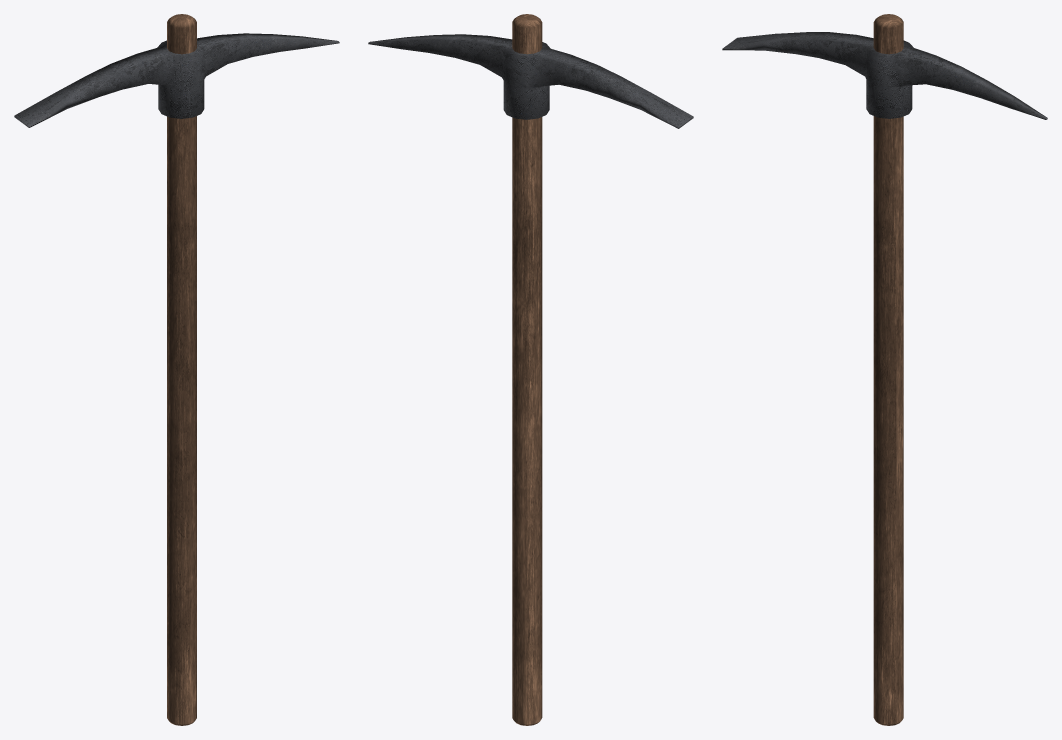
Rendered from WoodPickaxe.fbx.
3 views of the same model, side by side, from view 1: azimuth 30°, elevation 25°; view 2: azimuth 150°, elevation 25°; view 3: azimuth 330°, elevation 25° (orthographic).
Visible parts, largest first — view 1: WoodPickaxe_LOD0; view 2: WoodPickaxe_LOD0; view 3: WoodPickaxe_LOD0.
Part boxes in pixels (<box>): WoodPickaxe_LOD0: <box>14,14,339,725</box>; WoodPickaxe_LOD0: <box>368,14,693,725</box>; WoodPickaxe_LOD0: <box>722,14,1047,725</box>.
Size of what is drawn, in the model's own units: 49.4 by 105 by 6.18.
